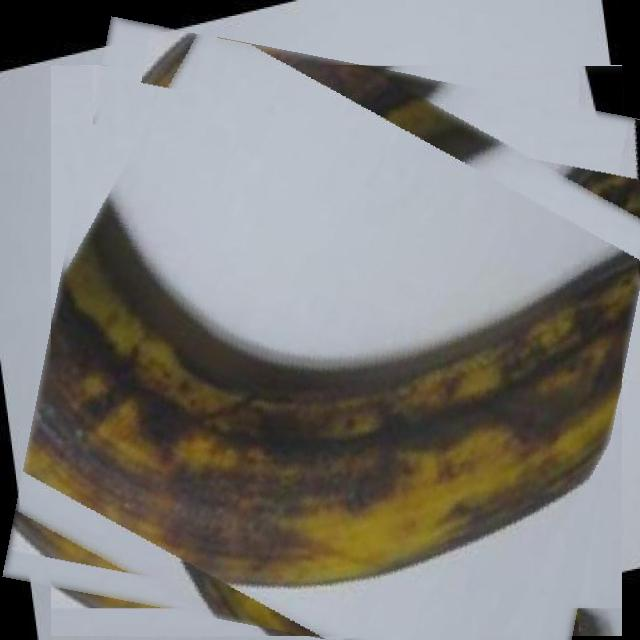Execivamente Madura: (26, 40, 640, 640)
